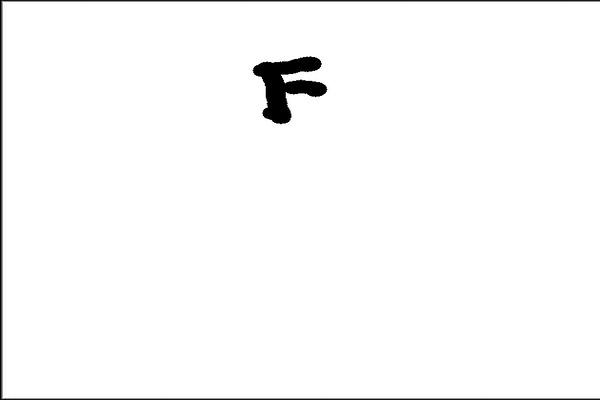F: (247, 53, 331, 128)
